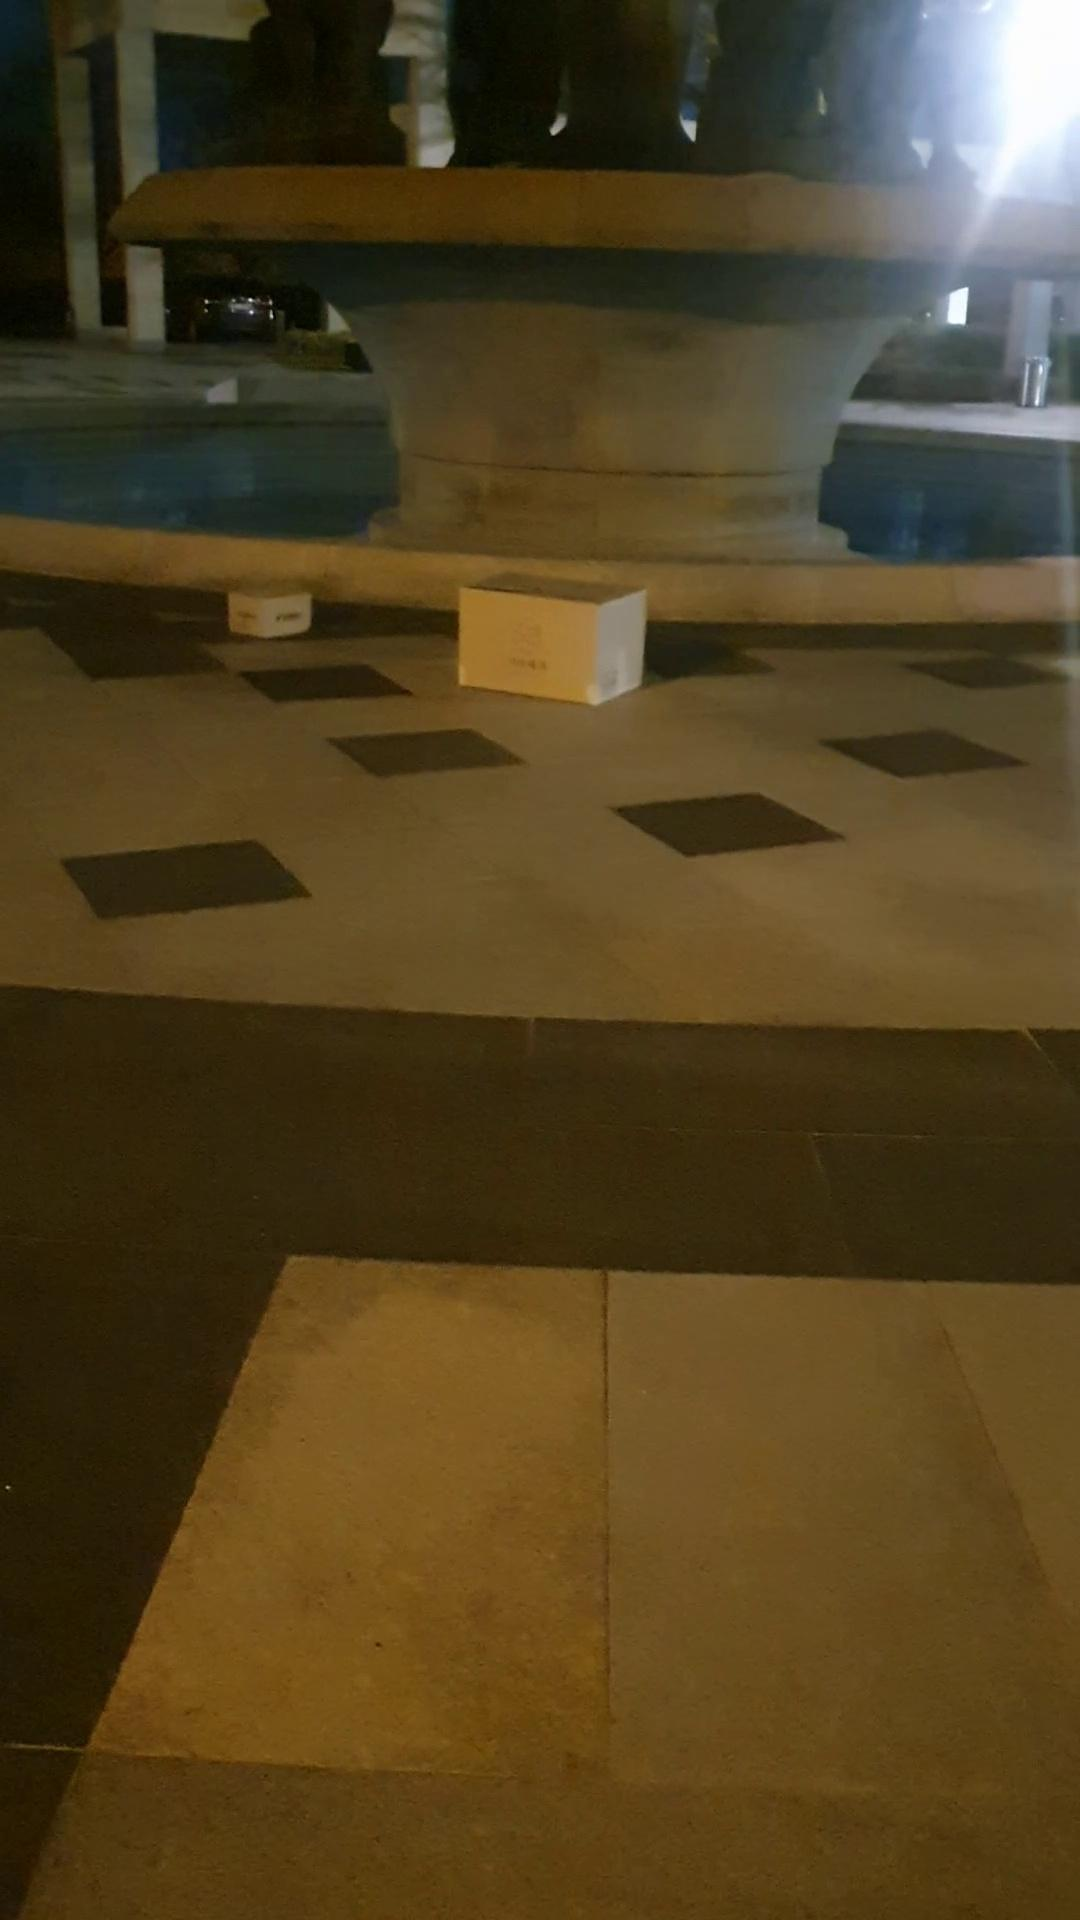Box: (386, 530, 740, 746), (206, 545, 334, 655)
